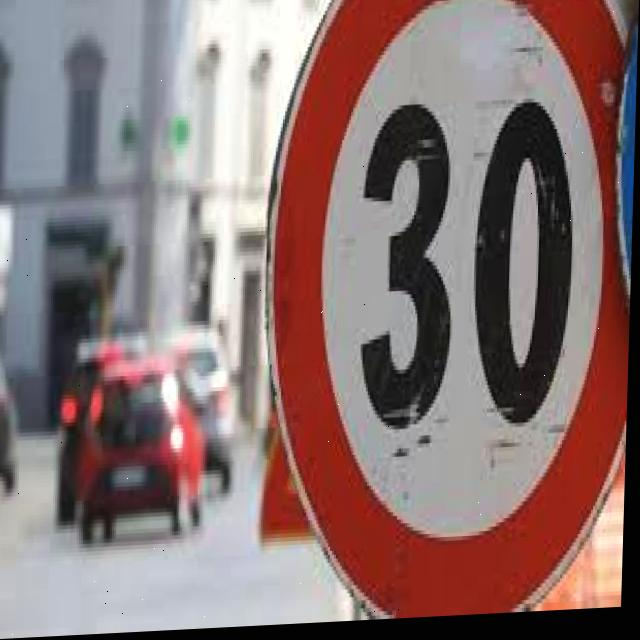Speed limit 30: (257, 1, 637, 622)
